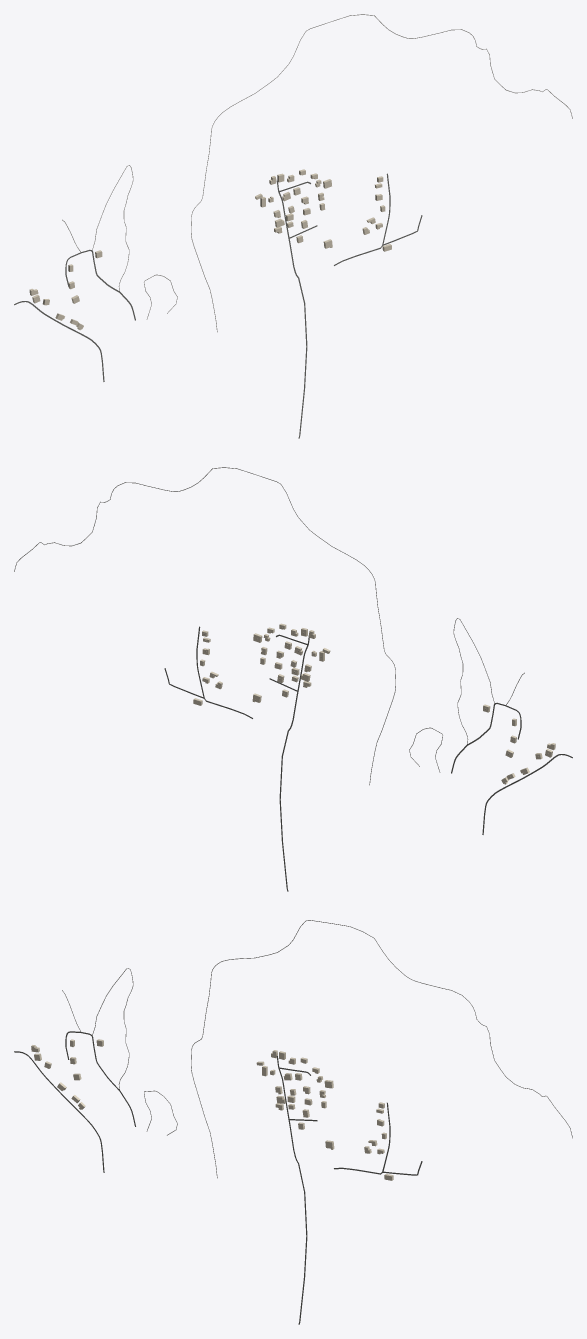
The model's file is irbid_3579_3259.glb.
3 renders of one model, top to bottom at view 1: azimuth 30°, elevation 25°; view 2: azimuth 150°, elevation 25°; view 3: azimuth 330°, elevation 25°, orthographic.
Visible parts, largest first — view 1: Road .007; view 2: Road .007; view 3: Road .007.
Boxes of the visible parts, box(x1,y1,x2,y2) form: Road .007: box(191, 14, 572, 332); Road .007: box(14, 467, 395, 785); Road .007: box(191, 920, 572, 1178).
Size of the model in its own units: 1462 by 1027 by 8.7.
